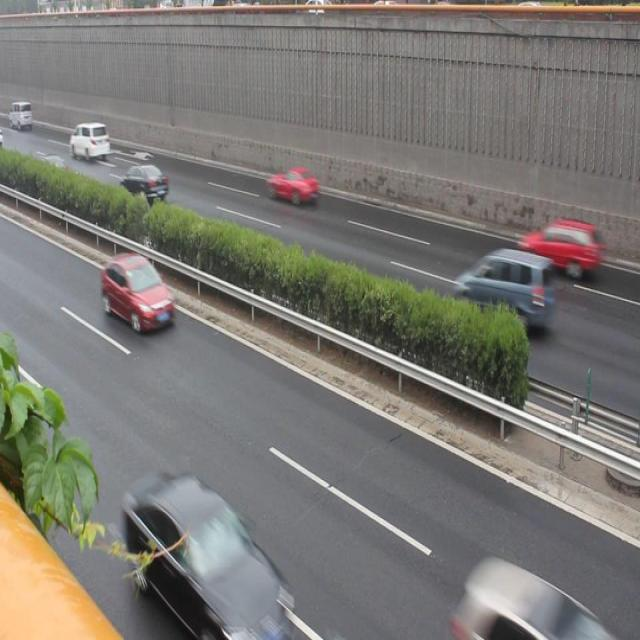car: (119, 463, 296, 640), (451, 250, 556, 334), (100, 249, 178, 338), (518, 214, 602, 279), (265, 164, 319, 214), (120, 158, 168, 202)
